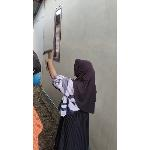Kapak: (42, 47, 54, 73)
